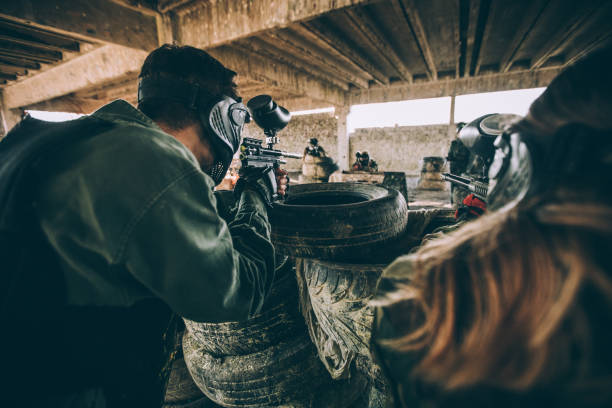gun: (241, 139, 302, 165), (439, 172, 487, 200)
